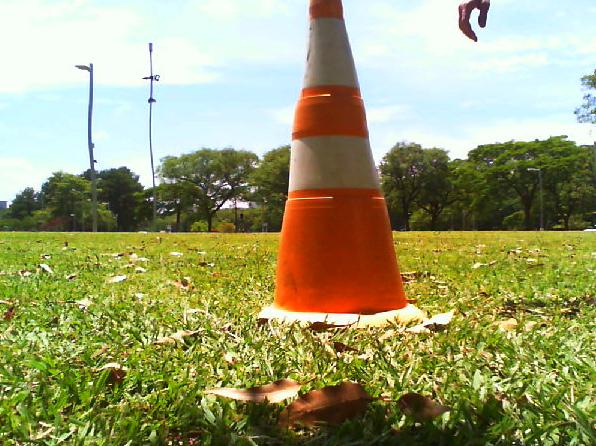0 cone: (257, 0, 426, 325)
